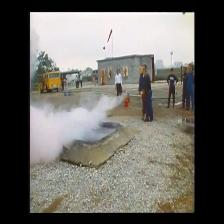smoke: (32, 109, 89, 137)
